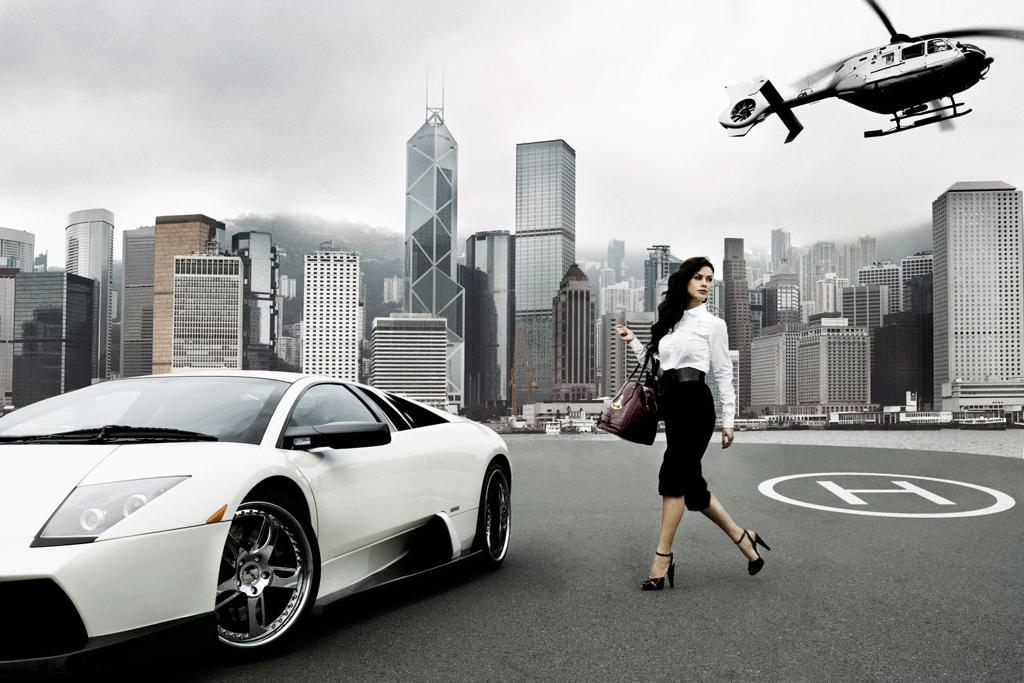face: (690, 266, 713, 301)
